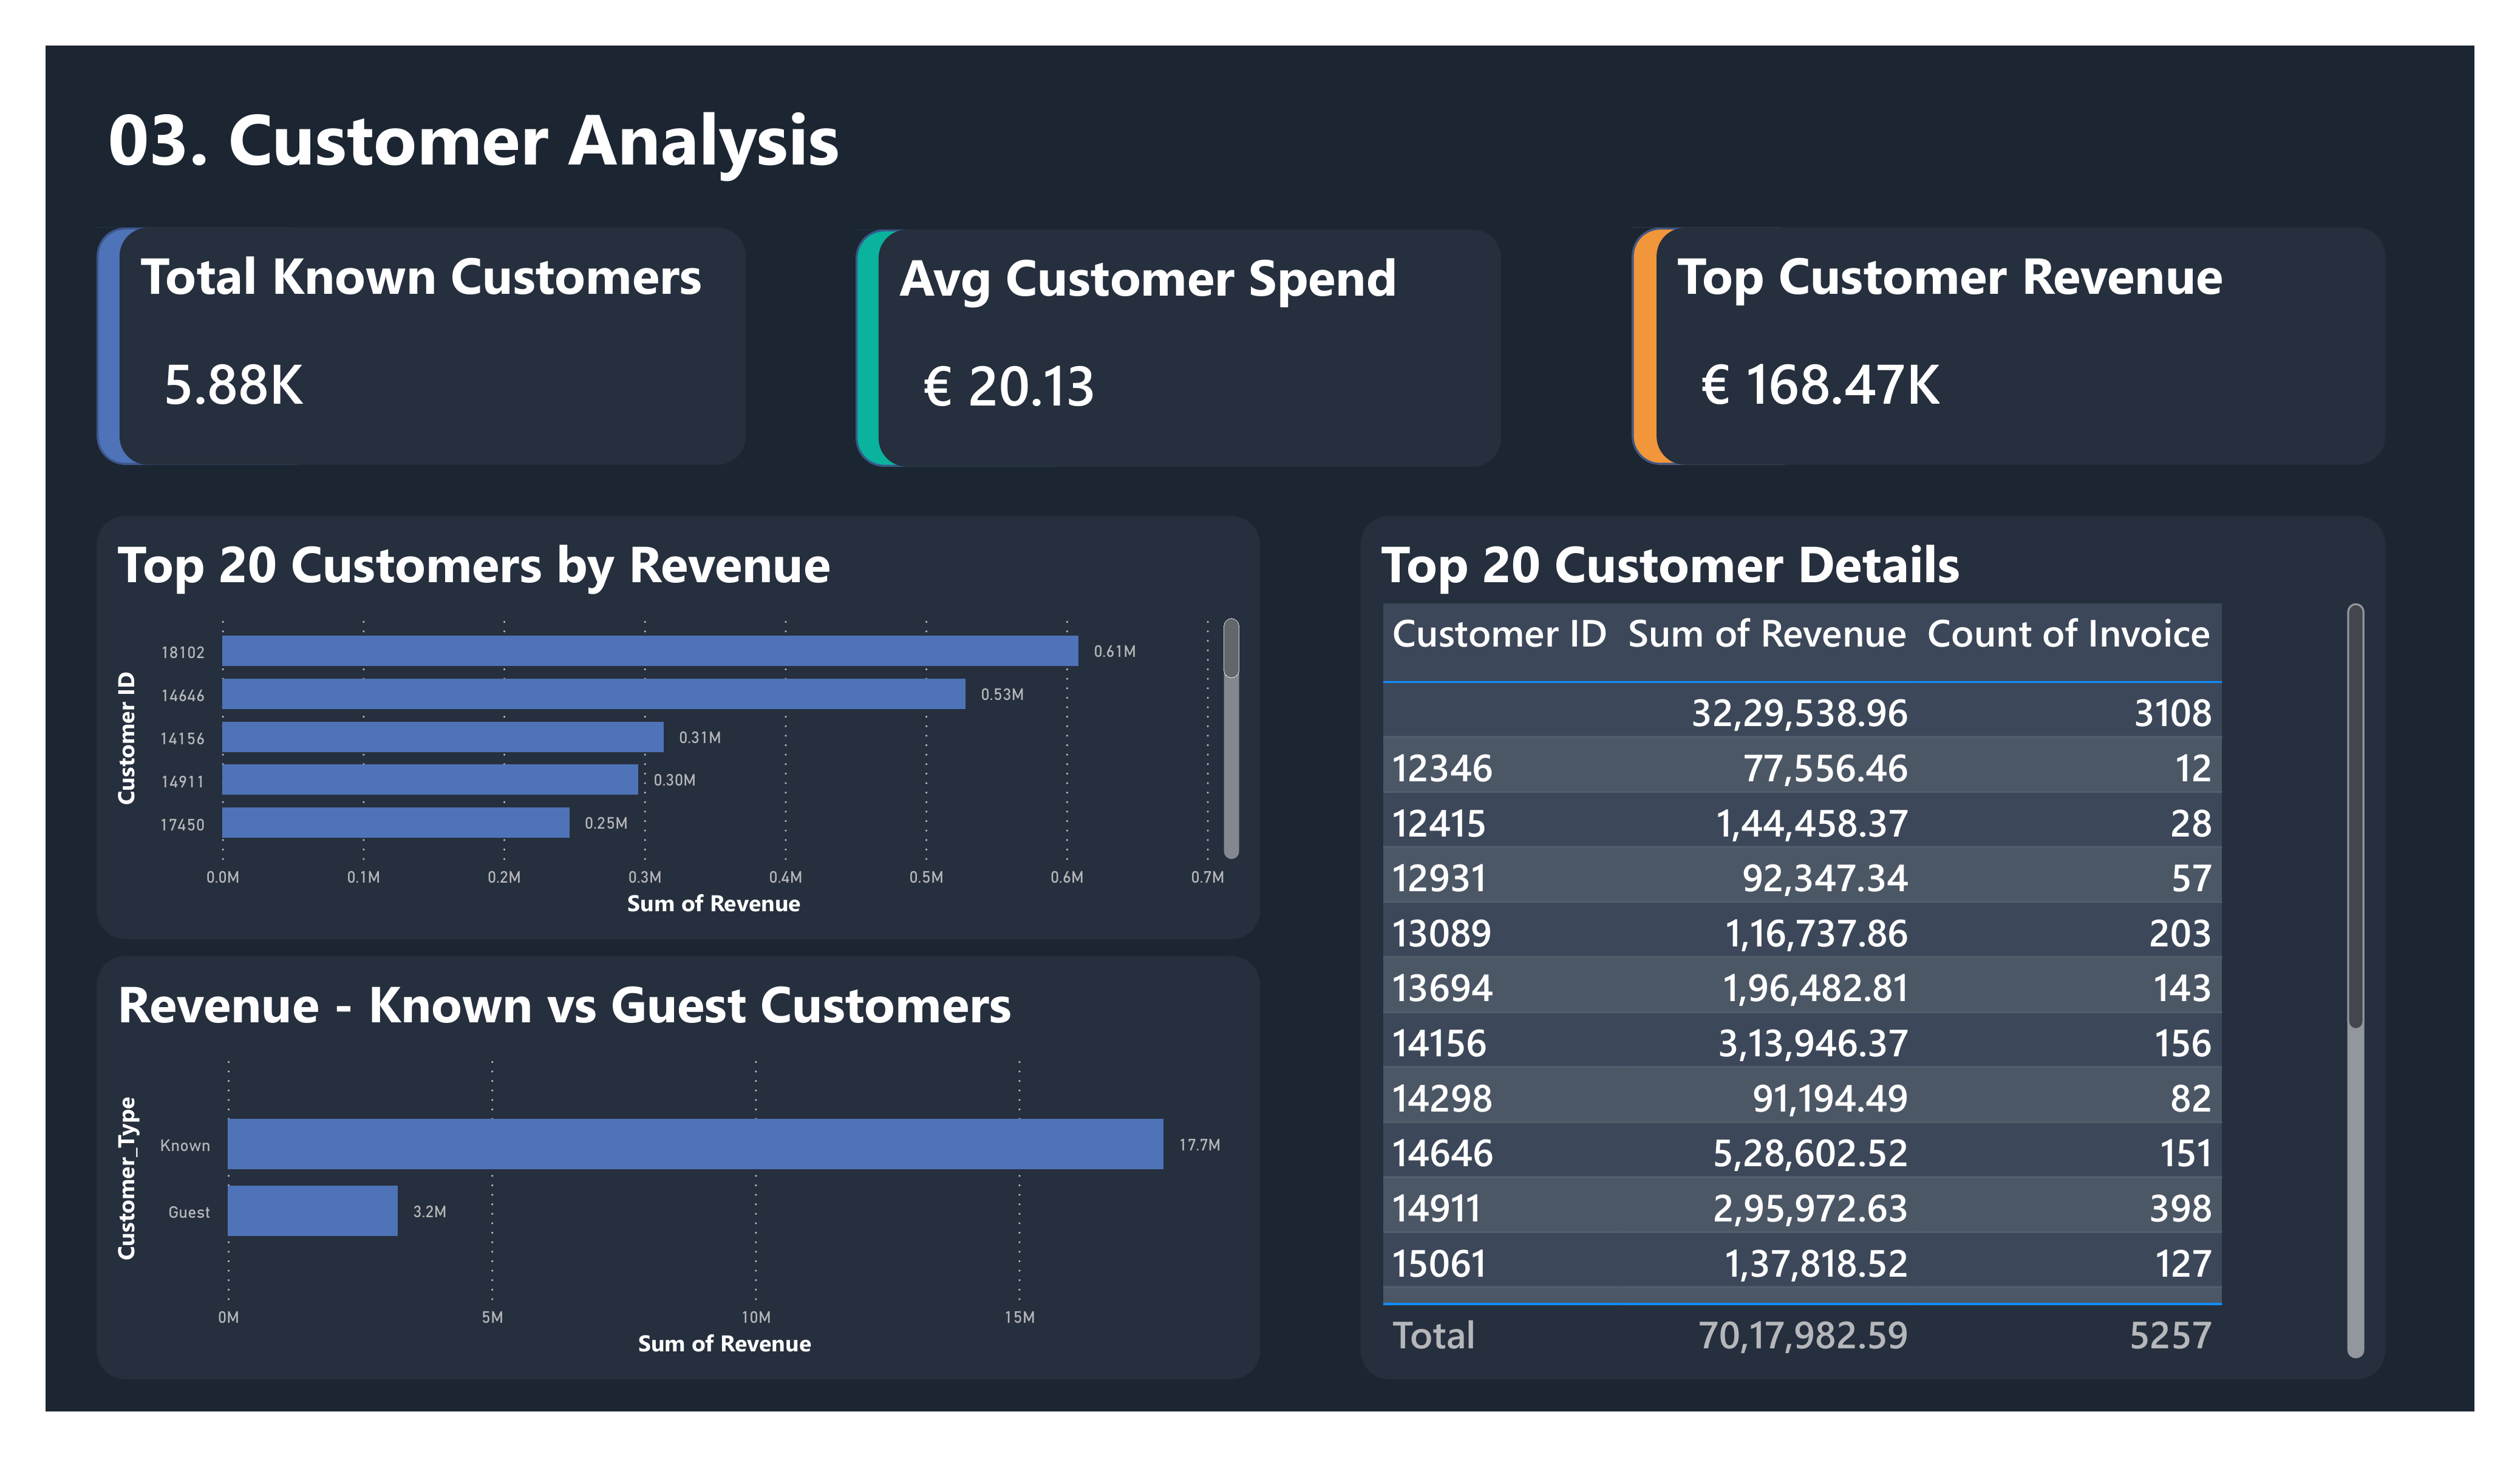

Layout of this report page (visuals, bound fields, positions):
{"tool":"powerbi","page":{"name":"03. Customer Analysis","canvas":[1280,720],"ordinal":2},"visuals":[{"type":"textbox","box":[27.5,17.5,420,65],"z":0},{"type":"shape","box":[27,96.1,118.9,125.4],"z":0,"group":"g1"},{"type":"shape","box":[835.6,96.4,93.8,125],"z":0,"group":"g3"},{"type":"shape","box":[426.6,97.3,118.3,125],"z":0,"group":"g2"},{"type":"group","id":"g1","title":"Group 1","box":[27,96.1,342.2,125.4],"z":1000},{"type":"cardVisual","title":"Total Known Customers","fields":{"Data":["Count(Cleaned_Combined_Data.Customer ID)"]},"box":[38.6,96.1,330.6,125.4],"z":1000,"group":"g1"},{"type":"cardVisual","title":"Top Customer Revenue","fields":{"Data":["Max(Cleaned_Combined_Data.Revenue)"]},"box":[848.5,96.1,384.4,125.4],"z":1000,"group":"g3"},{"type":"cardVisual","title":"Avg Customer Spend","fields":{"Data":["Avg(Cleaned_Combined_Data.Revenue)"]},"box":[438.1,97.3,328.9,125],"z":1000,"group":"g2"},{"type":"group","id":"g2","title":"Group 1","box":[426.6,97.3,341,125.4],"z":2000},{"type":"group","id":"g3","title":"Group 1","box":[835.6,96.1,397.3,125.4],"z":3000},{"type":"clusteredBarChart","title":"Top 20 Customers by Revenue","fields":{"Category":["Cleaned_Combined_Data.Customer ID"],"Y":["Sum(Cleaned_Combined_Data.Revenue)"]},"box":[27,248.4,612.9,222.7],"z":4000},{"type":"clusteredBarChart","title":"Revenue - Known vs Guest Customers","fields":{"Category":["Cleaned_Combined_Data.Customer_Type"],"Y":["Sum(Cleaned_Combined_Data.Revenue)"]},"box":[27,480.5,612.9,222.7],"z":5000},{"type":"tableEx","title":"Top 20 Customer Details","fields":{"Values":["Cleaned_Combined_Data.Customer ID","Sum(Cleaned_Combined_Data.Revenue)","Cleaned_Combined_Data.Invoice"]},"box":[692.6,248.4,540.2,454.7],"z":6000}]}

Visuals, with their boxes on the page's 1280x720 design canvas (x1, y1, x2, y2). These are canvas units, not pixel positions in the 2520x1457 screenshot, which may show the page scaled, cropped or inside an application window:
textbox: 28:18:448:82
shape: 27:96:146:222
shape: 836:96:929:221
shape: 427:97:545:222
"Group 1" group: 27:96:369:222
"Total Known Customers" cardVisual: 39:96:369:222
"Top Customer Revenue" cardVisual: 848:96:1233:222
"Avg Customer Spend" cardVisual: 438:97:767:222
"Group 1" group: 427:97:768:223
"Group 1" group: 836:96:1233:222
"Top 20 Customers by Revenue" clusteredBarChart: 27:248:640:471
"Revenue - Known vs Guest Customers" clusteredBarChart: 27:480:640:703
"Top 20 Customer Details" tableEx: 693:248:1233:703
